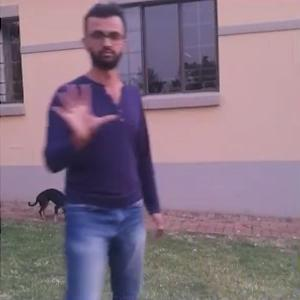follow_hand: (47, 79, 117, 146)
